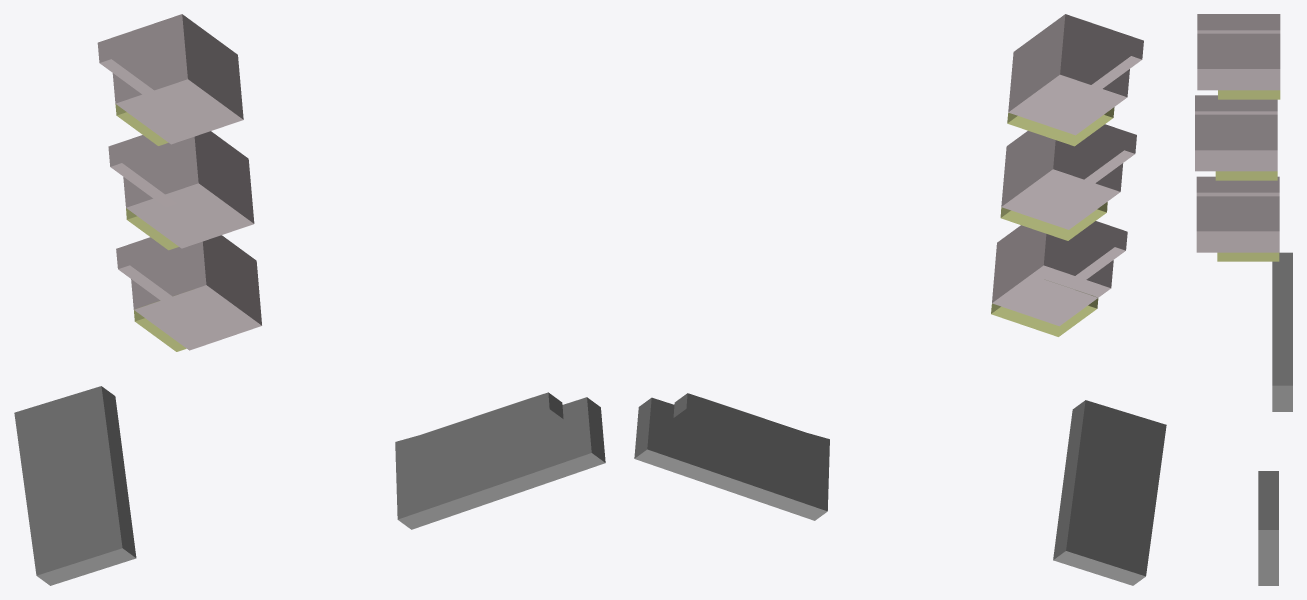
The picture shows the model from 3 angles, left to right: view 1: azimuth 30°, elevation 25°; view 2: azimuth 150°, elevation 25°; view 3: azimuth 270°, elevation 25°; orthographic projection. The views are drawn at different scales.
Visible parts, largest first — view 1: 0_2_3_3_3_1_0_2; view 2: 0_2_3_3_3_1_0_2; view 3: 0_2_3_3_3_1_0_2.
Boxes of the visible parts, box(x1,y1,x2,y2) form: 0_2_3_3_3_1_0_2: box(14, 14, 605, 585); 0_2_3_3_3_1_0_2: box(634, 14, 1166, 585); 0_2_3_3_3_1_0_2: box(1195, 14, 1292, 585).
Size of the model in its own units: 70.58 by 66.19 by 14.2.
